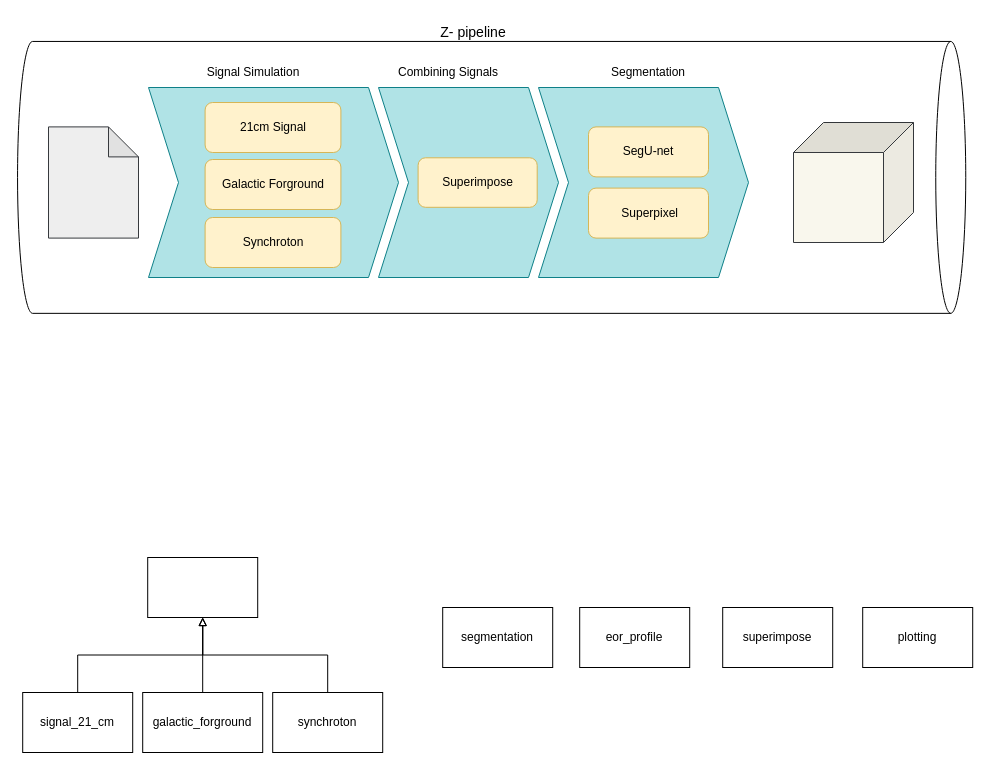
The diagram is 991 pixels wide and 770 high, and some of its shapes have lost their labels. The centre of each missing label's shape, as x and y in pixels:
"base_signal" goes at point 202,587.
"inputfiles" goes at point 93,182.
"output" goes at point 853,182.
